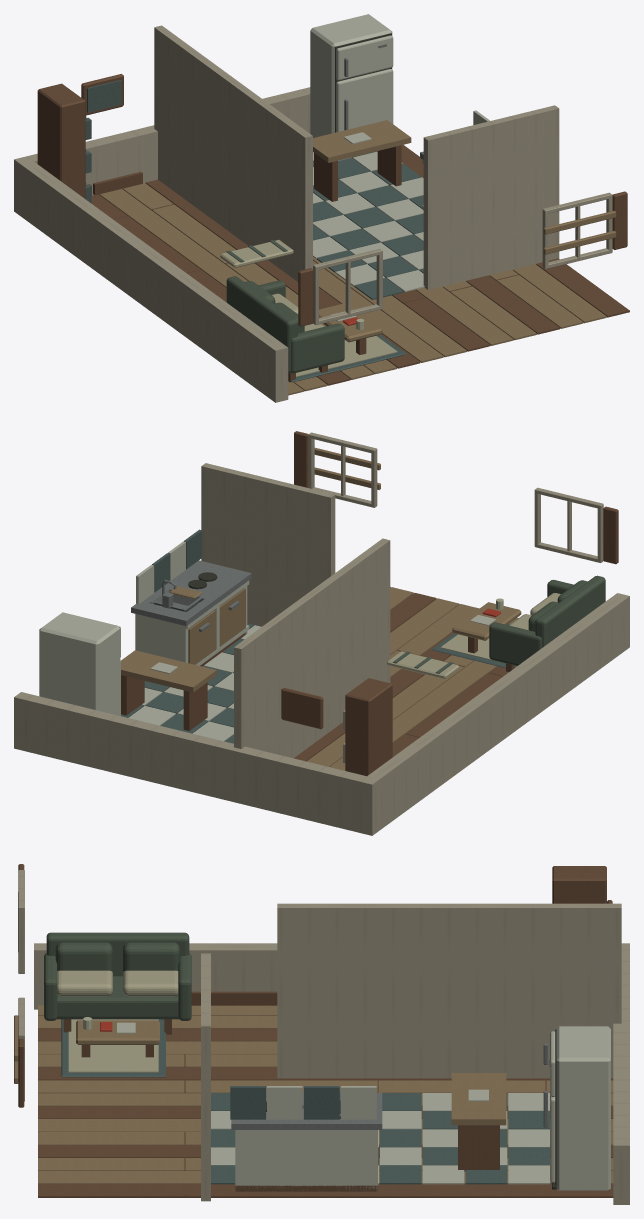
Rendered from house_details.glb.
The picture shows the model from 3 angles, top to bottom: view 1: azimuth 30°, elevation 25°; view 2: azimuth 150°, elevation 25°; view 3: azimuth 270°, elevation 25°; orthographic projection. The views are drawn at different scales.
Parts seen in each view (by area): view 1: DD_Hide_BedroomWall, DD_Hide_Partition, DD_Cut_West, DD_Cut_Back, DD_Keep_Bookcase, DD_Cut_BedroomWall, DD_Cut_Partition, DD_Keep_Fridge, DD_Keep_Floorboard.004, DD_Keep_Floorboard.003, DD_Keep_FridgeLowerDoor, DD_Keep_SofaBack (+40 smaller); view 2: DD_Cut_Back, DD_Hide_BedroomWall, DD_Cut_West, DD_Hide_Partition, DD_Keep_Fridge, DD_Keep_Bookcase, DD_Cut_BedroomWall, DD_Keep_Floorboard.003, DD_Keep_SofaBack, DD_Keep_Desk, DD_Keep_Floorboard.004, DD_Keep_KitchenSide (+22 smaller); view 3: DD_Hide_BedroomWall, DD_Cut_BedroomWall, DD_Keep_Fridge, DD_Keep_KitchenBack, DD_Keep_Floorboard.014, DD_Keep_Floorboard.006, DD_Cut_West, DD_Cut_Back, DD_Keep_SofaSeat, DD_Keep_Floorboard.005, DD_Keep_Desk, DD_Keep_RugInset (+50 smaller).
Boxes of the visible parts, left/top/right/bottom form: DD_Hide_BedroomWall: left=154, top=25, right=312, bottom=281; DD_Hide_Partition: left=423, top=105, right=559, bottom=289; DD_Cut_West: left=17, top=159, right=288, bottom=402; DD_Cut_Back: left=14, top=87, right=310, bottom=213; DD_Keep_Bookcase: left=37, top=83, right=85, bottom=198; DD_Cut_BedroomWall: left=158, top=146, right=312, bottom=281; DD_Cut_Partition: left=423, top=229, right=559, bottom=289; DD_Keep_Fridge: left=310, top=14, right=392, bottom=137; DD_Keep_Floorboard.004: left=122, top=182, right=396, bottom=374; DD_Keep_Floorboard.003: left=99, top=189, right=373, bottom=379; DD_Keep_FridgeLowerDoor: left=336, top=68, right=393, bottom=132; DD_Keep_SofaBack: left=226, top=276, right=297, bottom=373; DD_Cut_Back: left=14, top=692, right=379, bottom=835; DD_Hide_BedroomWall: left=234, top=538, right=390, bottom=757; DD_Cut_West: left=364, top=593, right=629, bottom=832; DD_Hide_Partition: left=201, top=463, right=335, bottom=626; DD_Keep_Fridge: left=39, top=612, right=120, bottom=715; DD_Keep_Bookcase: left=345, top=678, right=392, bottom=776; DD_Cut_BedroomWall: left=260, top=655, right=390, bottom=758; DD_Keep_Floorboard.003: left=330, top=661, right=496, bottom=770; DD_Keep_SofaBack: left=535, top=575, right=605, bottom=647; DD_Keep_Desk: left=121, top=650, right=216, bottom=692; DD_Keep_Floorboard.004: left=307, top=617, right=518, bottom=766; DD_Keep_KitchenSide: left=135, top=614, right=188, bottom=662; DD_Hide_BedroomWall: left=277, top=903, right=621, bottom=1078; DD_Cut_BedroomWall: left=277, top=1040, right=613, bottom=1078; DD_Keep_Fridge: left=556, top=1026, right=610, bottom=1190; DD_Keep_KitchenBack: left=235, top=1130, right=377, bottom=1190; DD_Keep_Floorboard.014: left=38, top=1184, right=613, bottom=1197; DD_Keep_Floorboard.006: left=38, top=1080, right=613, bottom=1093; DD_Cut_West: left=34, top=943, right=277, bottom=1009; DD_Cut_Back: left=613, top=943, right=629, bottom=1204; DD_Keep_SofaSeat: left=57, top=976, right=178, bottom=1019; DD_Keep_Floorboard.005: left=38, top=1067, right=613, bottom=1080; DD_Keep_Desk: left=451, top=1073, right=506, bottom=1125; DD_Keep_RugInset: left=68, top=1019, right=158, bottom=1072.
Bounding box in the file's own units: 5.7 × 2.3 × 7.34.
19 materials, 14 textured.
